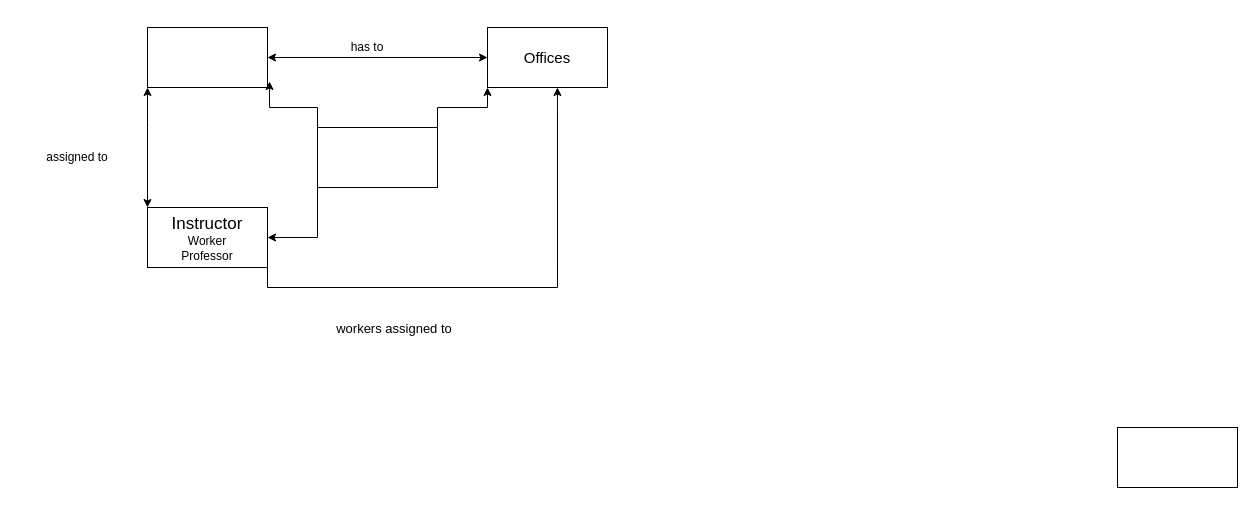
Image size: 1255x505. Some labels were removed from this diagram. The centre of each missing label's shape, as x and y in pixels:
"Department" goes at [207,57].
"University Information Systems" goes at [377,157].
